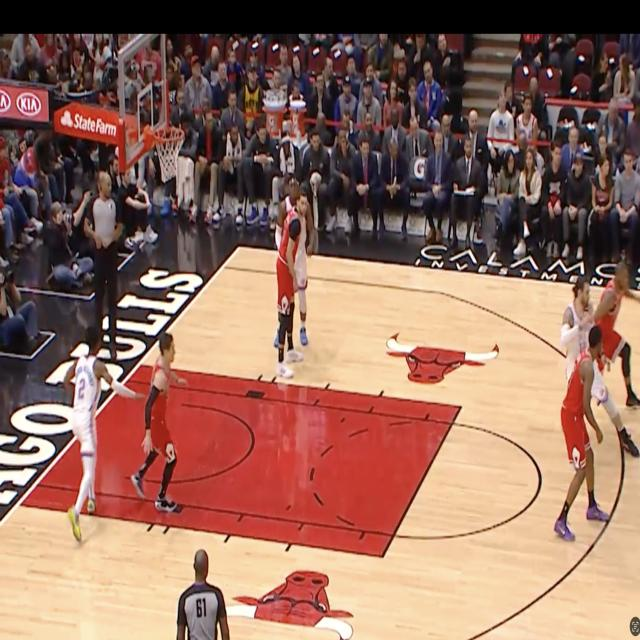no foul: (57, 325, 194, 514), (551, 254, 635, 532), (259, 165, 317, 384)
